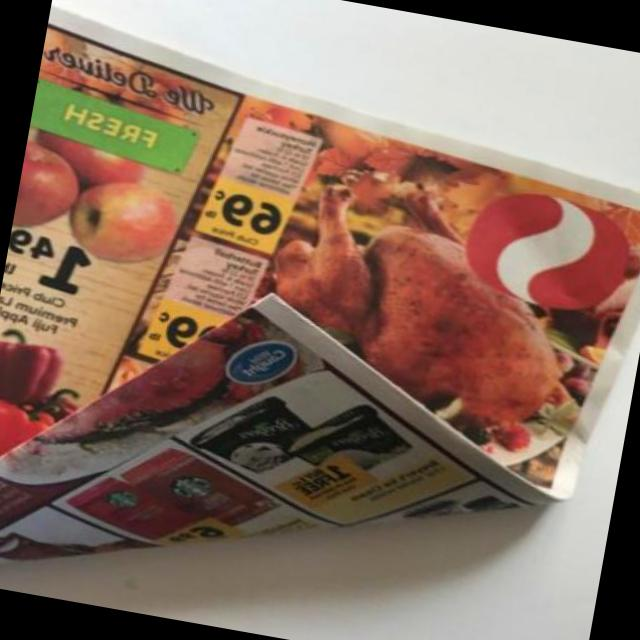cardboard paper: (0, 6, 640, 560)
